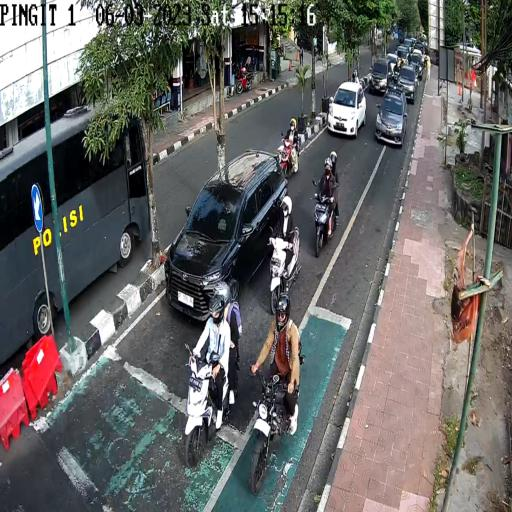mobil: (162, 146, 288, 322), (327, 78, 367, 140), (374, 86, 410, 148), (396, 65, 417, 103), (370, 59, 392, 95)
motor: (248, 356, 306, 493), (177, 336, 240, 461), (266, 226, 300, 307), (309, 182, 341, 257), (278, 131, 300, 178)
